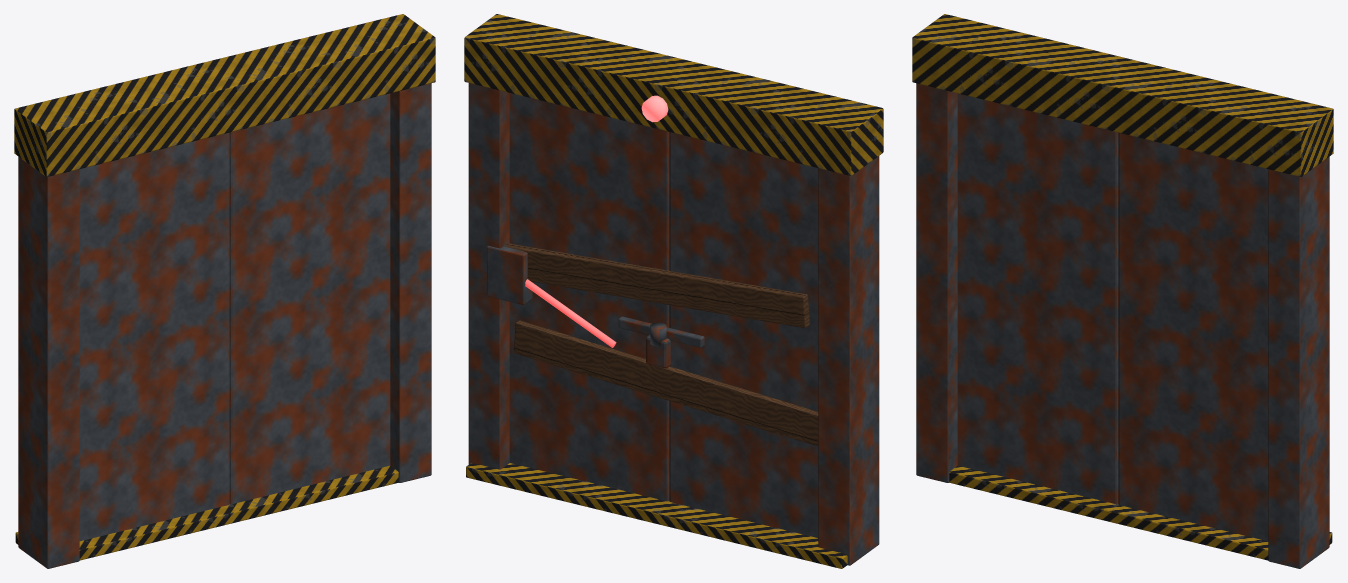
File: exit_airlock.glb
3 renders of one model, left to right at view 1: azimuth 30°, elevation 25°; view 2: azimuth 150°, elevation 25°; view 3: azimuth 330°, elevation 25°, orthographic.
Visible parts, largest first — view 1: BlastLeafR, BlastLeafL, GateHeader, GateFrameL, GateFrameR, Threshold; view 2: BlastLeafR, BlastLeafL, GateHeader, GateFrameL, GateFrameR, Plank2, Plank1, Threshold, JunctionBox, ChainBar, RedSecurityWire, PadlockBody (+1 smaller); view 3: BlastLeafL, BlastLeafR, GateHeader, GateFrameR, GateFrameL, Threshold.
Part boxes in pixels (x1=…): BlastLeafR: x1=229, y1=93, x2=390, y2=504; BlastLeafL: x1=79, y1=132, x2=229, y2=541; GateHeader: x1=14, y1=14, x2=435, y2=176; GateFrameL: x1=18, y1=157, x2=79, y2=568; GateFrameR: x1=390, y1=83, x2=431, y2=482; Threshold: x1=15, y1=465, x2=398, y2=560; BlastLeafR: x1=509, y1=93, x2=669, y2=501; BlastLeafL: x1=669, y1=132, x2=818, y2=537; GateHeader: x1=464, y1=14, x2=883, y2=175; GateFrameL: x1=818, y1=156, x2=879, y2=565; GateFrameR: x1=468, y1=83, x2=509, y2=469; Plank2: x1=513, y1=320, x2=818, y2=446; Plank1: x1=504, y1=243, x2=809, y2=328; Threshold: x1=466, y1=463, x2=847, y2=568; JunctionBox: x1=487, y1=243, x2=532, y2=304; ChainBar: x1=618, y1=316, x2=704, y2=347; RedSecurityWire: x1=525, y1=279, x2=616, y2=347; PadlockBody: x1=646, y1=334, x2=670, y2=368; BlastLeafL: x1=957, y1=93, x2=1118, y2=504; BlastLeafR: x1=1118, y1=132, x2=1268, y2=541; GateHeader: x1=912, y1=14, x2=1333, y2=176; GateFrameR: x1=1268, y1=157, x2=1329, y2=568; GateFrameL: x1=916, y1=83, x2=957, y2=482; Threshold: x1=949, y1=465, x2=1332, y2=560.
Size of the model in its own units: 2.88 by 3.1 by 0.4901.
Materials: 7 (4 with a texture image).
